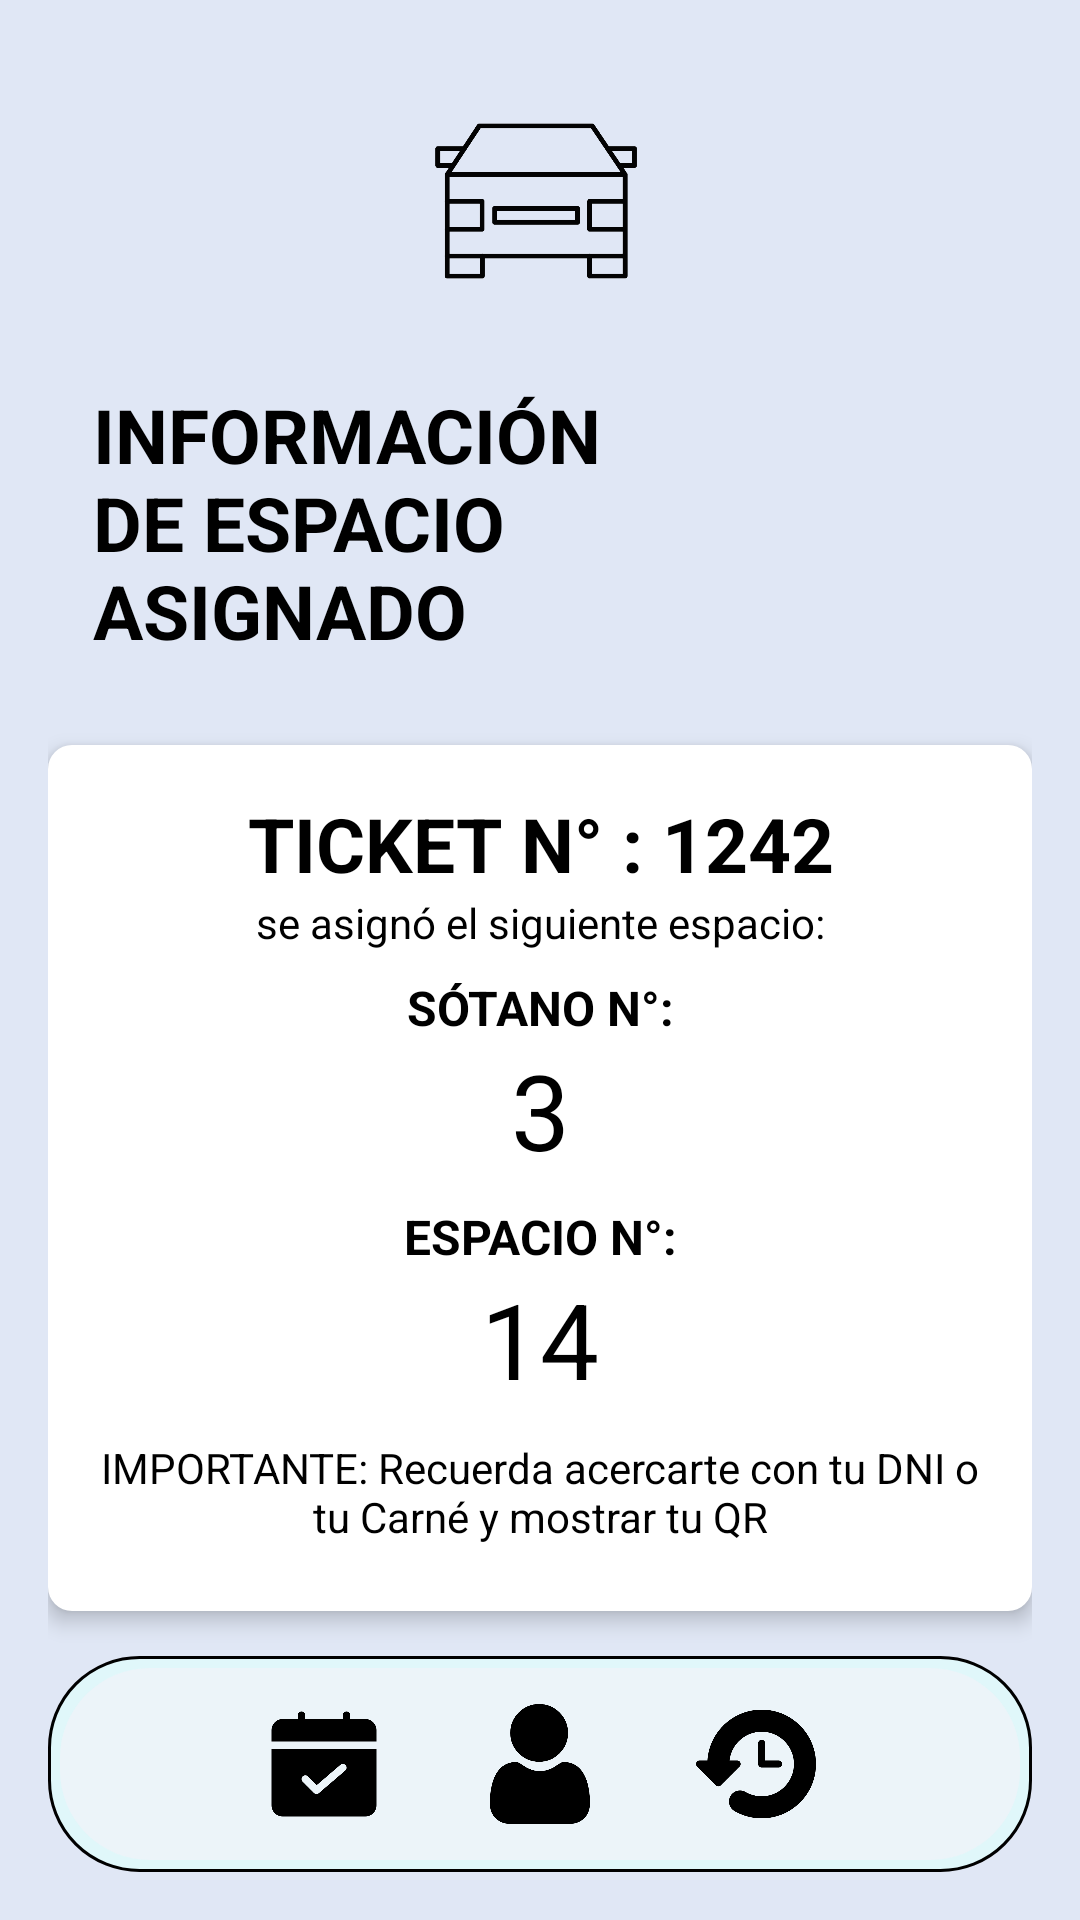

Icons on this 1080w x 1920h Android screen, each with the point to tap as [x,y]:
calendar: [324,1764]
car: [536,201]
record: [756,1764]
user: [540,1764]
